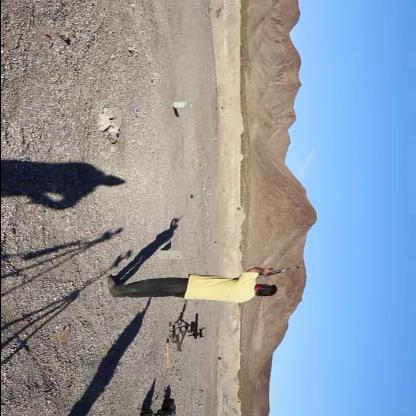long weapon: (226, 254, 306, 282), (162, 311, 211, 347)
